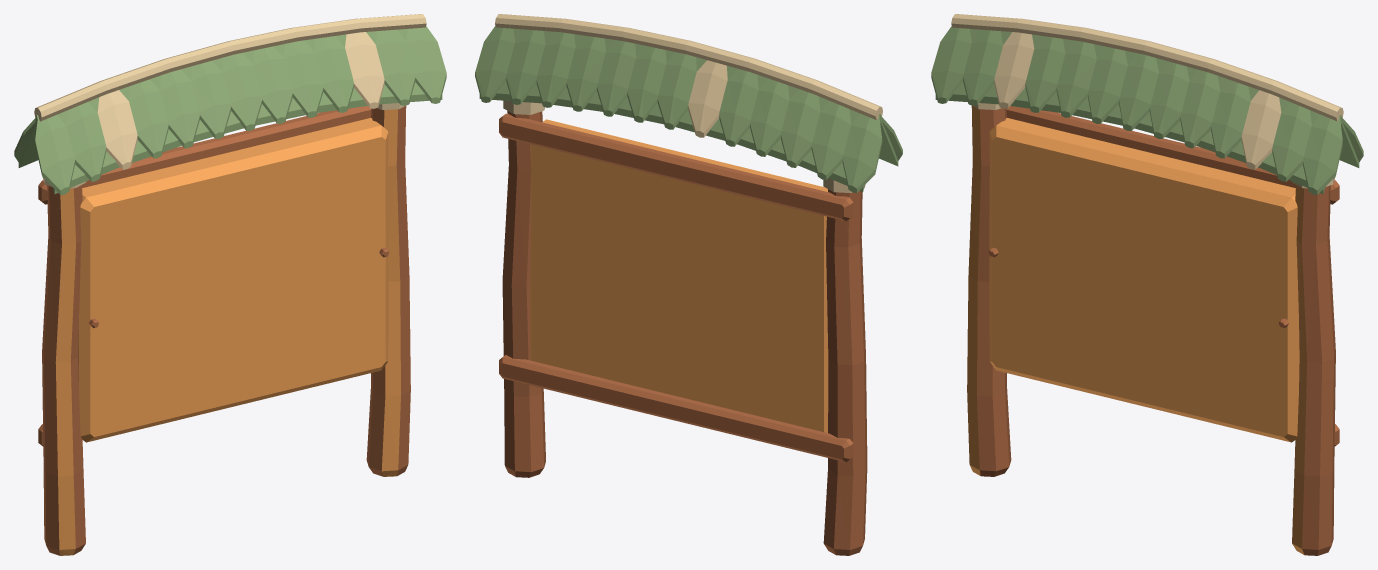
Rendered from guideBoard.glb.
3 views of the same model, side by side, from view 1: azimuth 30°, elevation 25°; view 2: azimuth 150°, elevation 25°; view 3: azimuth 330°, elevation 25° (orthographic).
Parts seen in each view (by area): view 1: guideBoard; view 2: guideBoard; view 3: guideBoard.
Part boxes in pixels (bbox=[...]): guideBoard: bbox=[14, 14, 446, 555]; guideBoard: bbox=[475, 14, 902, 555]; guideBoard: bbox=[931, 14, 1363, 555].
Bounding box in the file's own units: 3.11 × 3.46 × 0.53.
Materials: 1 (1 with a texture image).
